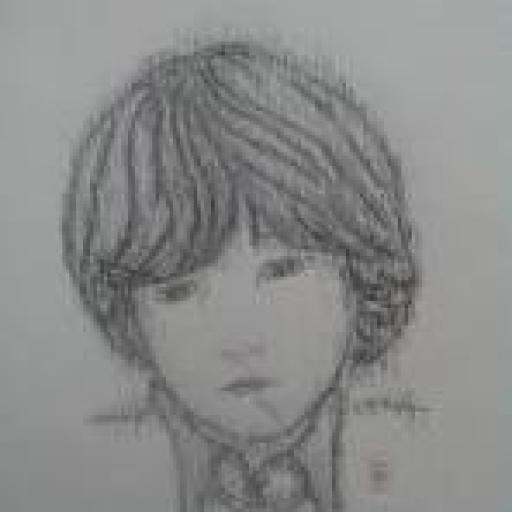person: (65, 33, 426, 509)
